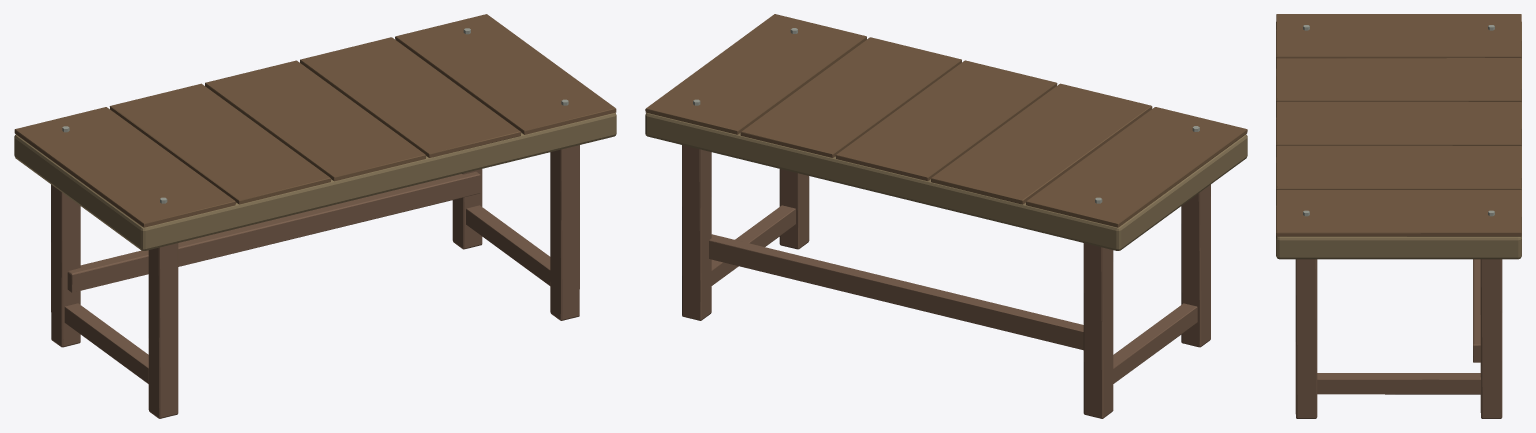
File: workbench_low.glb
3 renders of one model, left to right at view 1: azimuth 30°, elevation 25°; view 2: azimuth 150°, elevation 25°; view 3: azimuth 270°, elevation 25°, orthographic. The views are drawn at different scales.
Visible parts, largest first — view 1: workbench.001; view 2: workbench.001; view 3: workbench.001.
Part boxes in pixels (x1=…): workbench.001: x1=14, y1=14, x2=616, y2=418; workbench.001: x1=645, y1=14, x2=1247, y2=418; workbench.001: x1=1276, y1=14, x2=1521, y2=418.
Size of the model in its own units: 1.8 by 0.776 by 0.85.
